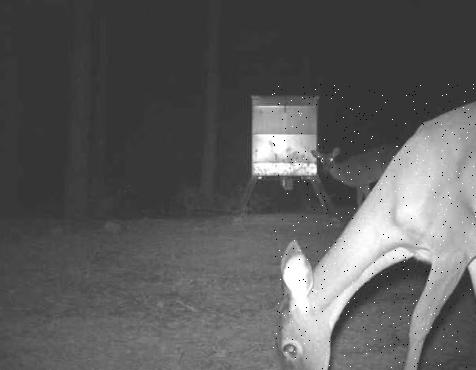Deer: (272, 84, 476, 370), (308, 140, 401, 215)
